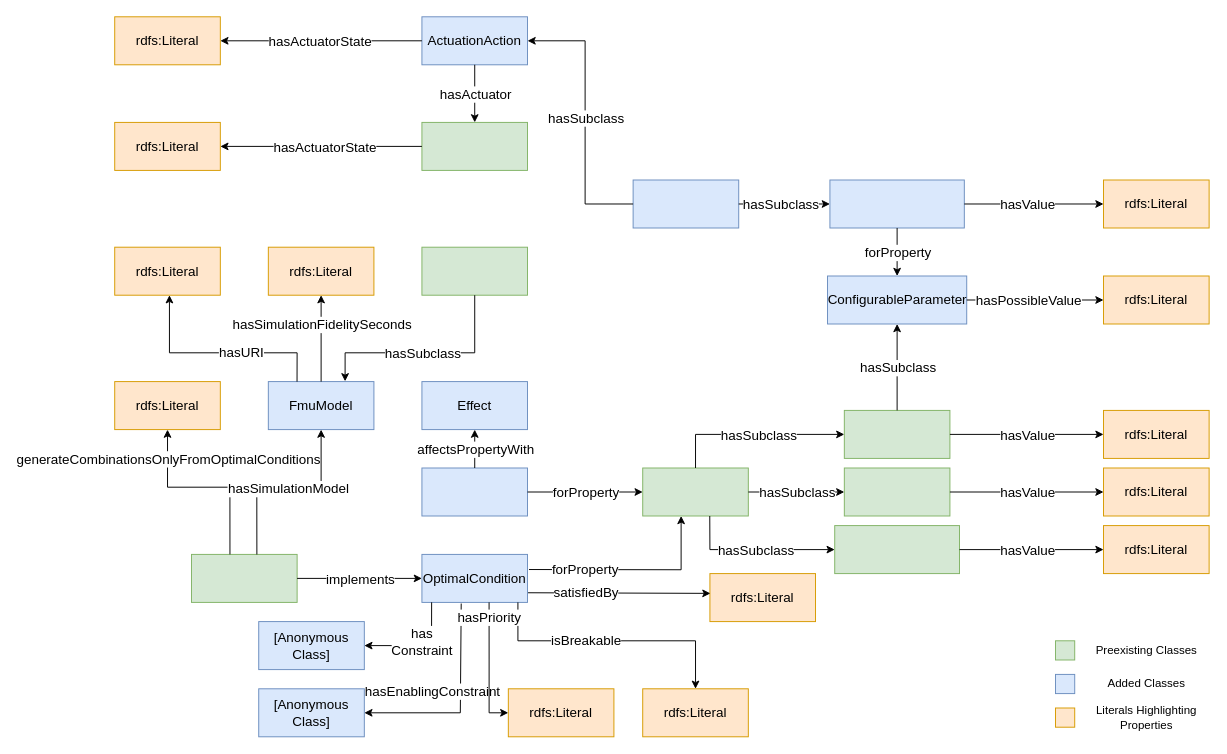
Image size: 1227x754. Some labels were removed from this diagram. The shapes that lost their labels are listed below. From the top down, each one's box as (x1, y1, x2, y2) in pixels, then its label:
(421, 121, 528, 170): Actuator
(632, 179, 739, 228): Action
(829, 179, 964, 228): ReconfigurationAction
(421, 246, 528, 295): Procedure
(843, 409, 950, 458): Input
(421, 467, 528, 516): PropertyChange
(642, 467, 748, 516): Property
(843, 467, 950, 516): Output
(834, 525, 960, 574): ObservableProperty
(191, 553, 297, 602): Platform
